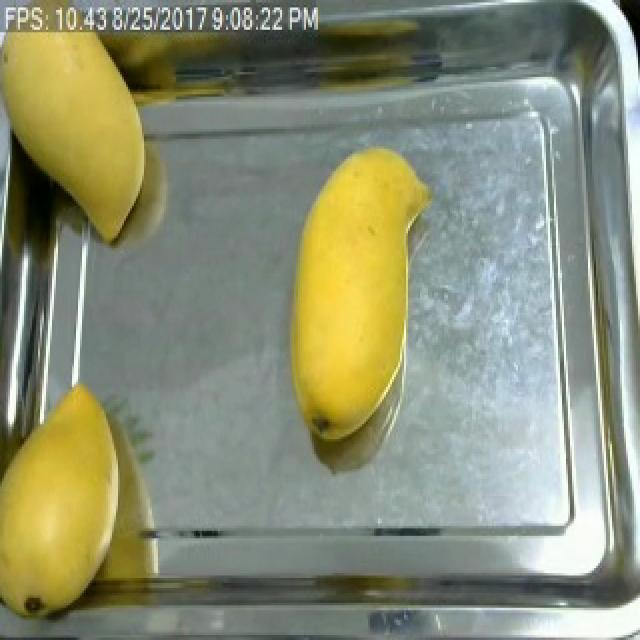fruit: (274, 134, 422, 454), (0, 32, 158, 253), (0, 377, 134, 628)
